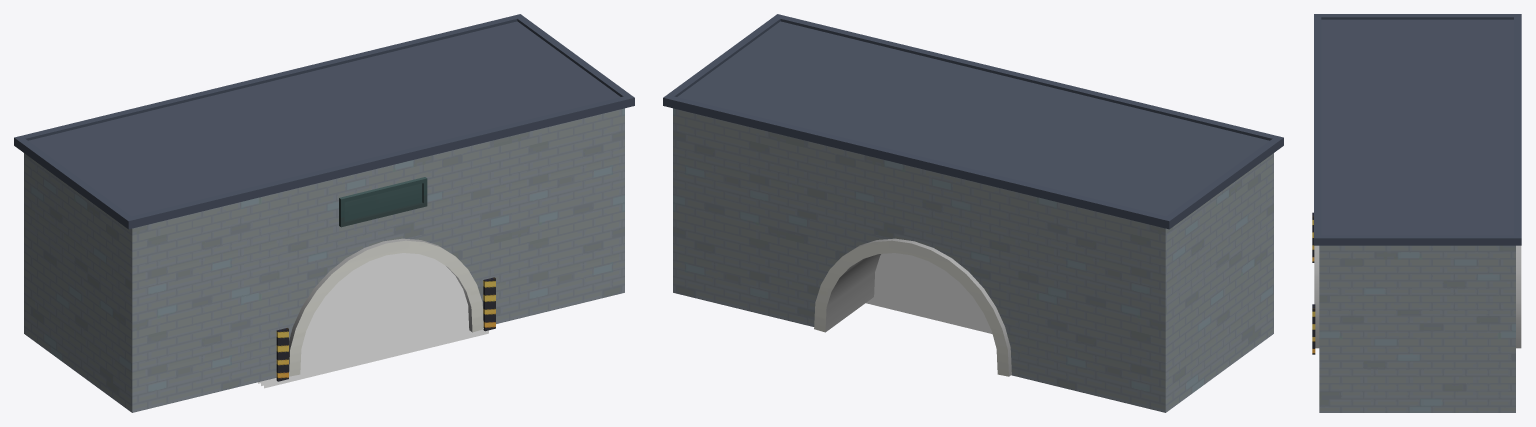
File: Tunnel.fbx
3 views of the same model, side by side, from view 1: azimuth 30°, elevation 25°; view 2: azimuth 150°, elevation 25°; view 3: azimuth 270°, elevation 25° (orthographic). The views are drawn at different scales.
Visible parts, largest first — view 1: Tunnel, TransperentShadow_1; view 2: Tunnel, TransperentShadow_1; view 3: Tunnel.
Part boxes in pixels (box(x1,y1,x2,y2)): Tunnel: box(14, 14, 634, 412); TransperentShadow_1: box(258, 253, 488, 388); Tunnel: box(663, 14, 1283, 412); TransperentShadow_1: box(866, 253, 992, 333); Tunnel: box(1312, 14, 1521, 412).
Bounding box in the file's own units: 1148 × 441 × 452.
